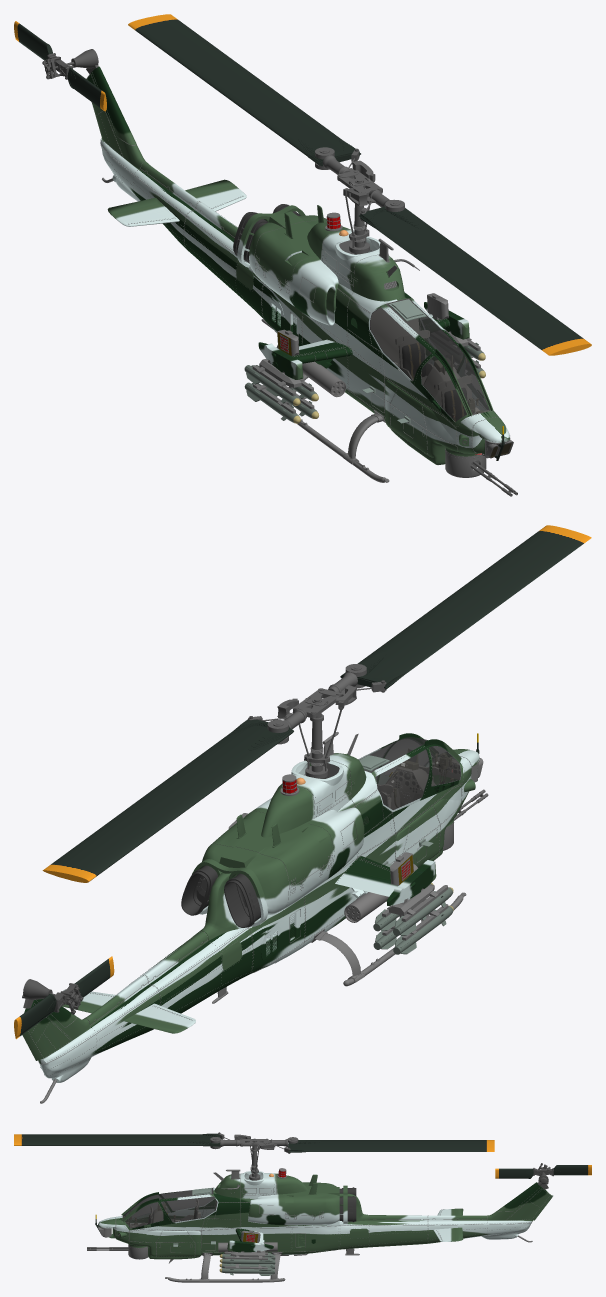
Rendered from helicopter_military.glb.
3 views of the same model, one above another, from view 1: azimuth 30°, elevation 25°; view 2: azimuth 150°, elevation 25°; view 3: azimuth 270°, elevation 25° (orthographic). The views are drawn at different scales.
Parts seen in each view (by area): view 1: AH1WF01, AH1WRotA_AH1WROTR_0, AH1WTur, AH1WF04, AH1WF03, AH1WRot_AH1WBLAS_0, AH1WGla03_AH1WGLAS_0, AH1WGla04_AH1WGLAS_0, AH1WGla06_AH1WGLAS_0, AH1WHT03_AH1WROTR_0, AH1WA02, AH1WDOWN_AH1WDAGR_0 (+11 smaller); view 2: AH1WF01, AH1WRotA_AH1WROTR_0, AH1WTur, AH1WF04, AH1WRot_AH1WBLAS_0, AH1WF03, AH1WGla04_AH1WGLAS_0, AH1WA03, AH1WHT03_AH1WROTR_0, AH1WTur2, AH1WF05, AH1WBa02 (+13 smaller); view 3: AH1WF01, AH1WRotA_AH1WROTR_0, AH1WTur, AH1WF03, AH1WF04, AH1WRot_AH1WBLAS_0, AH1WGla02, AH1WPa01_AH1WGREN_0, AH1WHT03_AH1WROTR_0, AH1WL01, AH1WGla01_AH1WGLAS_0, AH1WBa01 (+13 smaller).
Boxes of the visible parts, bbox=[...] form: AH1WF01: bbox=[100, 138, 509, 464]; AH1WRotA_AH1WROTR_0: bbox=[128, 14, 591, 355]; AH1WTur: bbox=[237, 205, 338, 325]; AH1WF04: bbox=[307, 222, 404, 301]; AH1WF03: bbox=[86, 66, 237, 238]; AH1WRot_AH1WBLAS_0: bbox=[315, 147, 404, 254]; AH1WGla03_AH1WGLAS_0: bbox=[385, 298, 489, 415]; AH1WGla04_AH1WGLAS_0: bbox=[370, 307, 431, 381]; AH1WGla06_AH1WGLAS_0: bbox=[421, 356, 466, 421]; AH1WHT03_AH1WROTR_0: bbox=[14, 21, 106, 111]; AH1WA02: bbox=[107, 197, 179, 226]; AH1WDOWN_AH1WDAGR_0: bbox=[370, 298, 419, 367]; AH1WF01: bbox=[38, 749, 479, 1082]; AH1WRotA_AH1WROTR_0: bbox=[42, 525, 591, 882]; AH1WTur: bbox=[192, 798, 364, 926]; AH1WF04: bbox=[261, 753, 366, 837]; AH1WRot_AH1WBLAS_0: bbox=[248, 664, 386, 778]; AH1WF03: bbox=[22, 931, 208, 1060]; AH1WGla04_AH1WGLAS_0: bbox=[375, 749, 429, 809]; AH1WA03: bbox=[335, 856, 409, 898]; AH1WHT03_AH1WROTR_0: bbox=[14, 956, 114, 1039]; AH1WTur2: bbox=[224, 873, 260, 927]; AH1WF05: bbox=[200, 867, 242, 940]; AH1WBa02: bbox=[382, 884, 448, 940]; AH1WF01: bbox=[98, 1187, 532, 1259]; AH1WRotA_AH1WROTR_0: bbox=[14, 1133, 494, 1152]; AH1WTur: bbox=[248, 1174, 347, 1225]; AH1WF03: bbox=[369, 1182, 553, 1220]; AH1WF04: bbox=[214, 1171, 308, 1199]; AH1WRot_AH1WBLAS_0: bbox=[210, 1133, 298, 1180]; AH1WGla02: bbox=[161, 1196, 217, 1222]; AH1WPa01_AH1WGREN_0: bbox=[165, 1252, 285, 1282]; AH1WHT03_AH1WROTR_0: bbox=[495, 1165, 591, 1178]; AH1WL01: bbox=[115, 1198, 531, 1256]; AH1WGla01_AH1WGLAS_0: bbox=[125, 1202, 163, 1228]; AH1WBa01: bbox=[224, 1250, 267, 1269].
Size of what is drawn, in the model's own units: 91.44 by 106 by 430.
61 materials, 18 textured.
